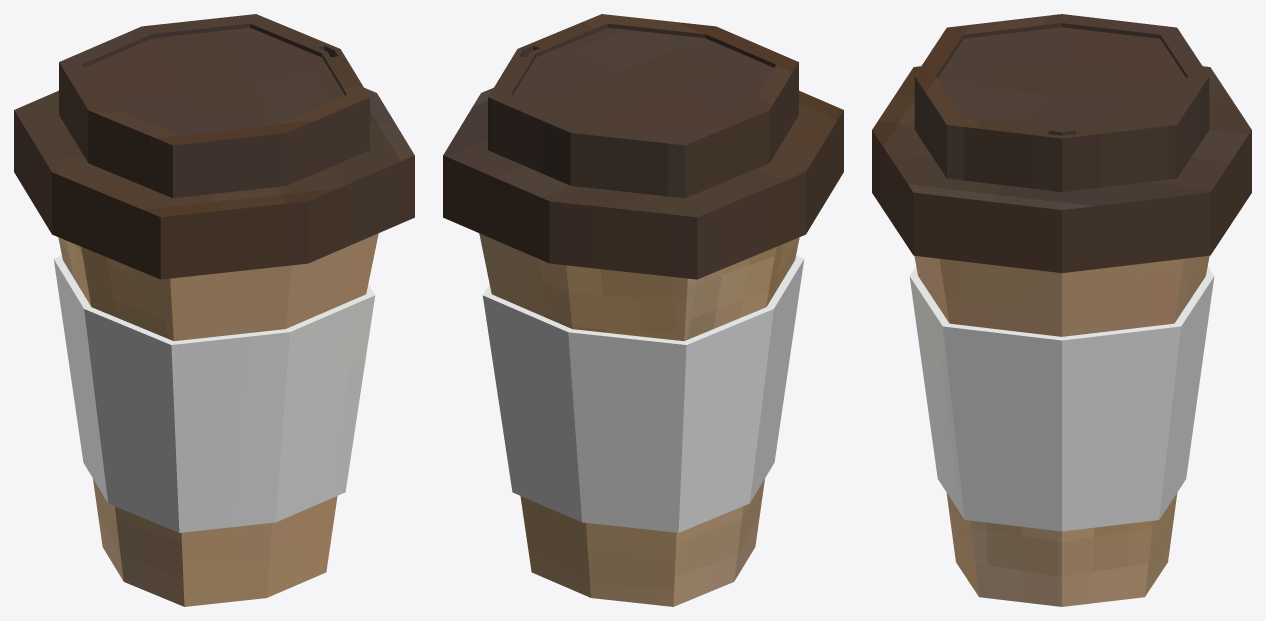
Rendered from coffeeAnimated.glb.
The picture shows the model from 3 angles, left to right: view 1: azimuth 30°, elevation 25°; view 2: azimuth 150°, elevation 25°; view 3: azimuth 270°, elevation 25°; orthographic projection.
Parts seen in each view (by area): view 1: Cube_Cube.022; view 2: Cube_Cube.022; view 3: Cube_Cube.022.
Part boxes in pixels (<box>): Cube_Cube.022: <box>14,14,414,606</box>; Cube_Cube.022: <box>443,14,843,606</box>; Cube_Cube.022: <box>872,14,1251,606</box>.
Bounding box in the file's own units: 0.6813 × 0.9619 × 0.6813.
Materials: 1 (1 with a texture image).
